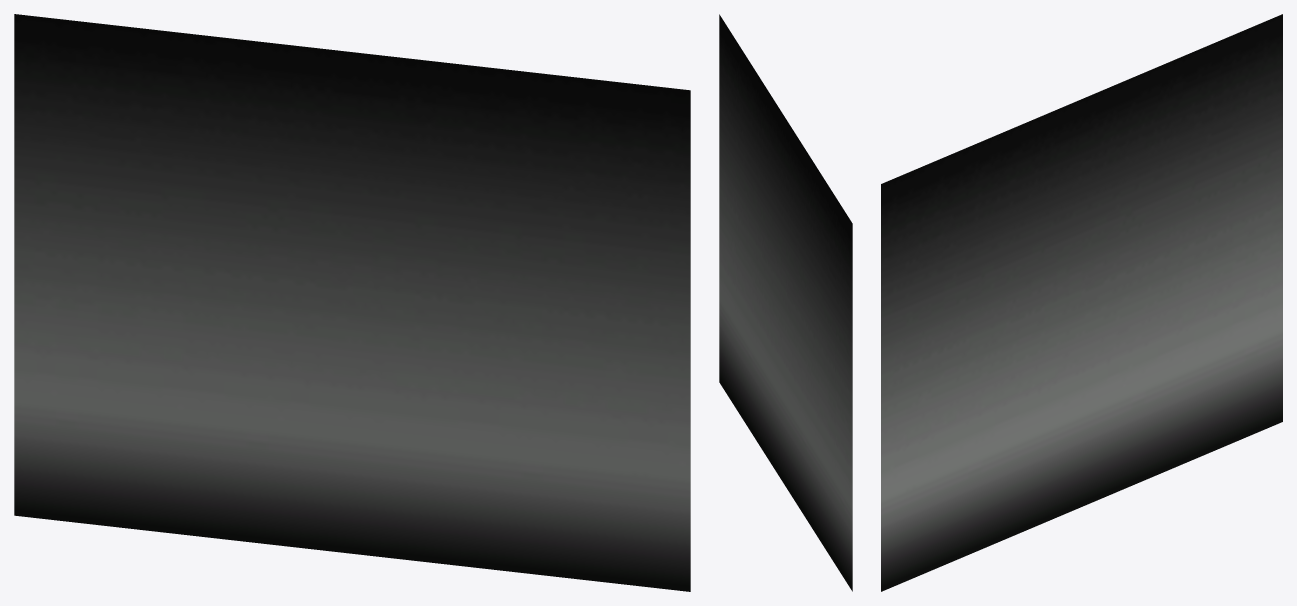
The model's file is caustics_wall_diagonal_01.fbx.
3 renders of one model, left to right at view 1: azimuth 30°, elevation 25°; view 2: azimuth 150°, elevation 25°; view 3: azimuth 270°, elevation 25°, orthographic. The views are drawn at different scales.
Visible parts, largest first — view 1: obj0.257; view 2: obj0.257; view 3: obj0.257.
Part boxes in pixels (bbox=[...]): obj0.257: bbox=[14, 14, 690, 591]; obj0.257: bbox=[719, 14, 852, 591]; obj0.257: bbox=[881, 14, 1282, 591].
Bounding box in the file's own units: 3.58 × 4 × 3.57.
